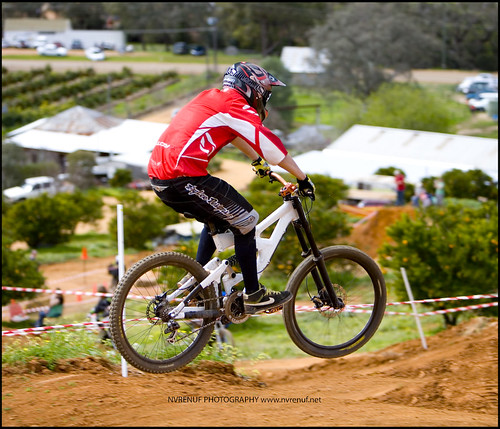helmet: (224, 52, 283, 115)
